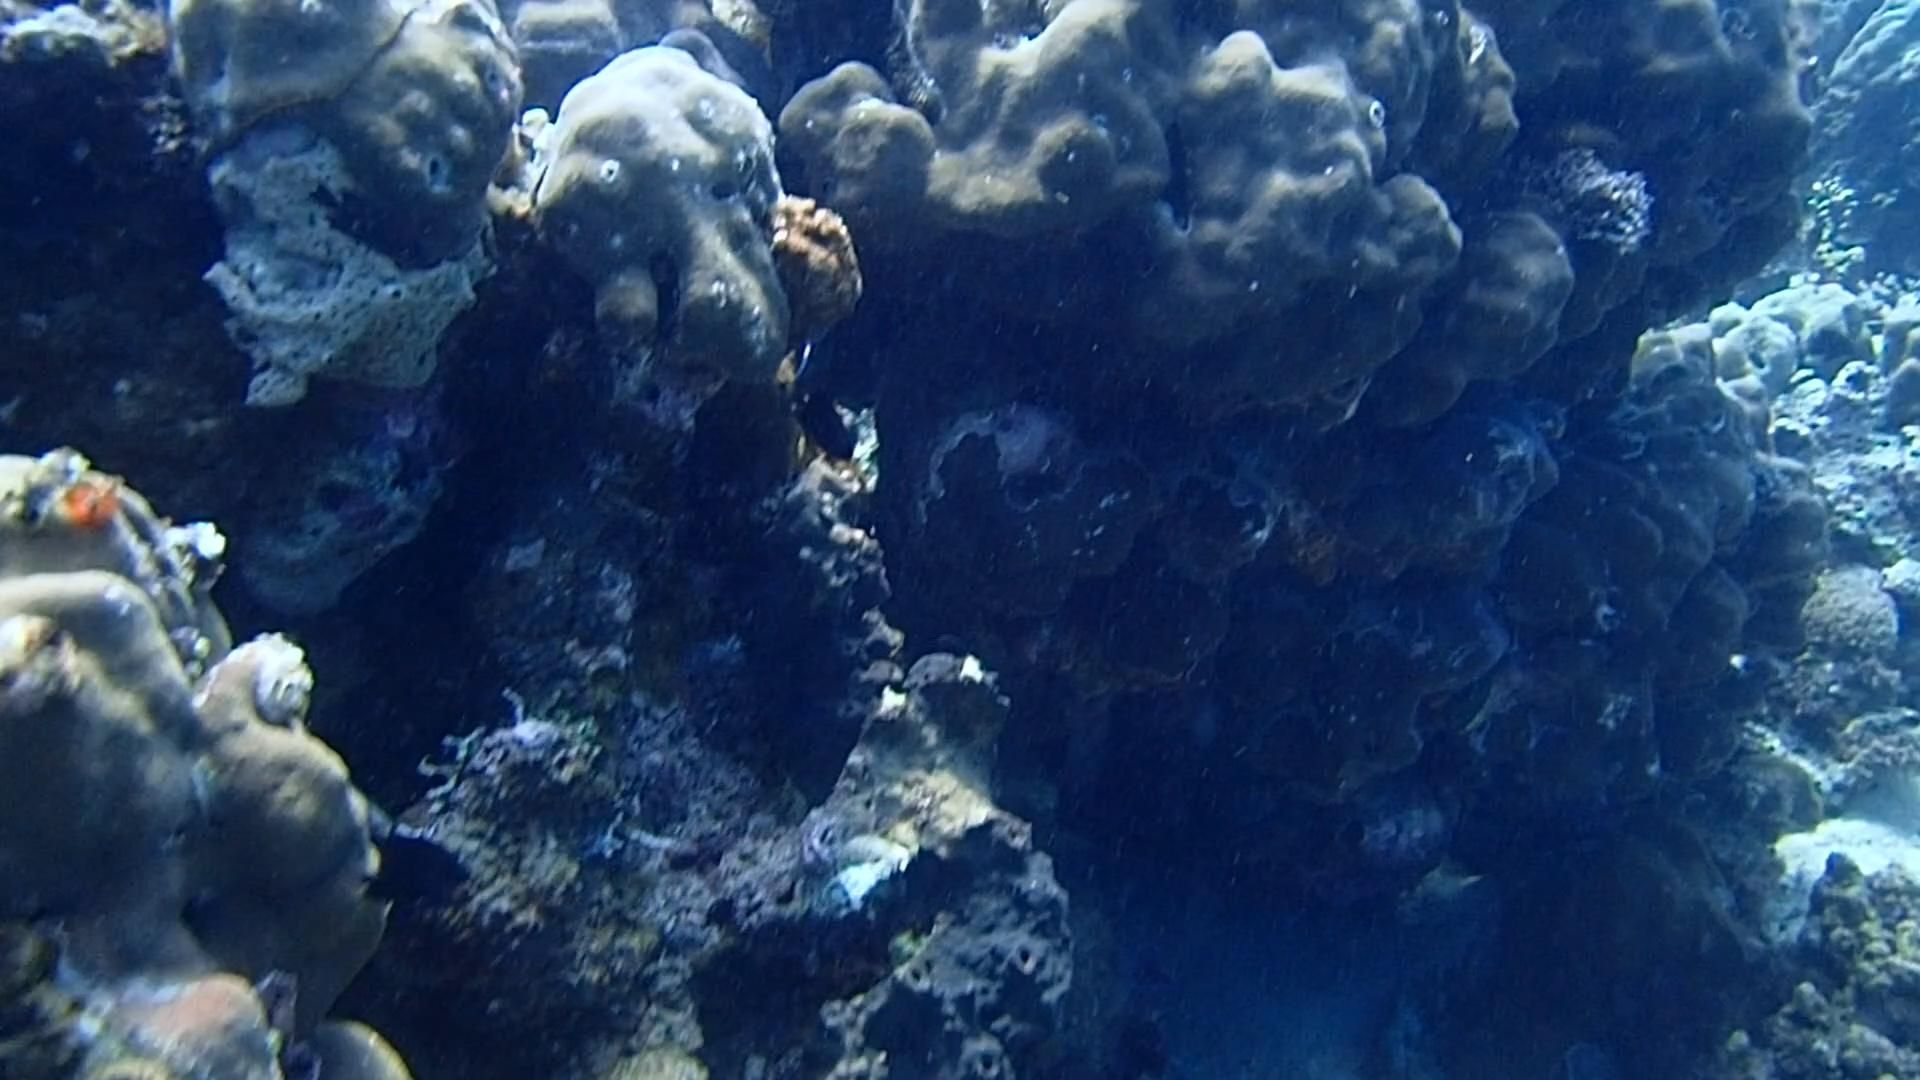Dark Fish: (352, 847, 471, 920), (369, 820, 475, 899), (783, 378, 868, 472)
